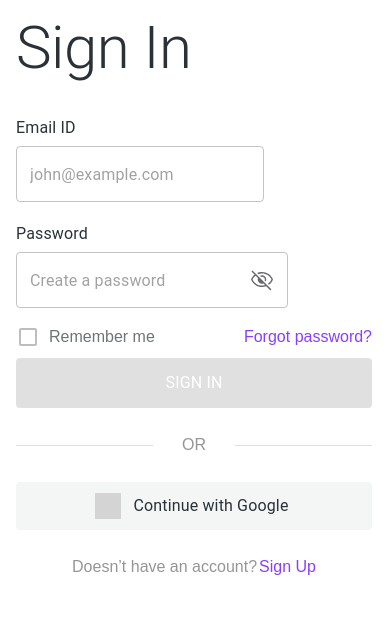
Test case: SignIn component Test Case › email helper text and password helper text rendering test case
The width and height of the screenshot is (389, 635).
Type "ab@gmail.com" into the field with placeholder "john@example.com".
click(140, 174); type("ab@gmail.com")  # box [16,146,264,202]
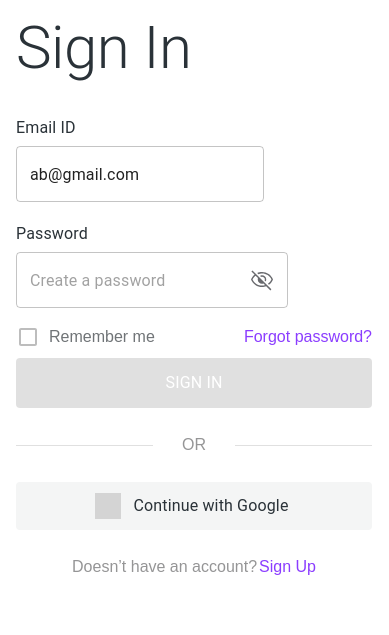
Type "ab12345673" into the password field with placeholder "Create a password".
click(133, 280); type("ab12345673")  # box [16,252,250,308]
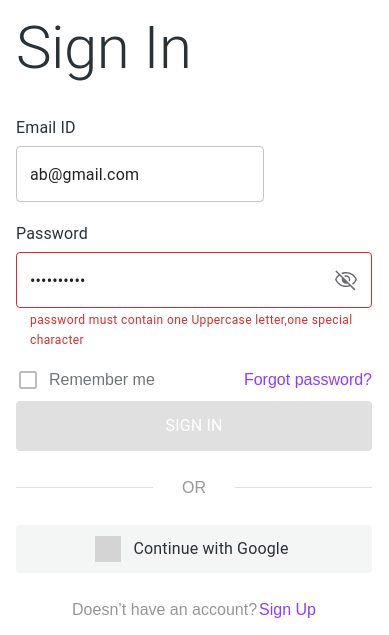
Now the text "password must contain one Uppercase letter,one special character" is shown, box [30,311,358,351]
